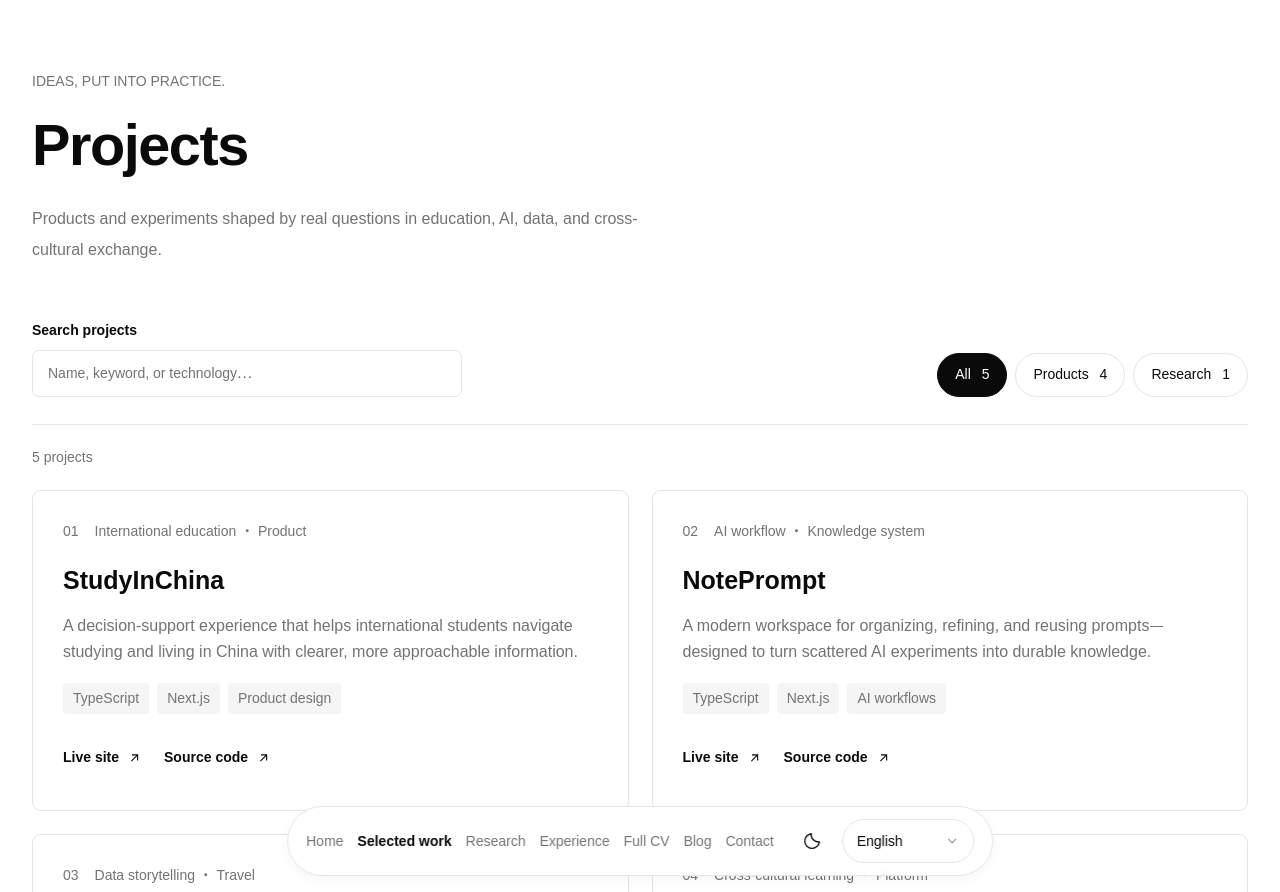
project discovery › combines category and keyword filtering and recovers from an empty result
Click the button "Products 4" at (1070,375), box top-left (1016, 353), bottom-right (1125, 397)
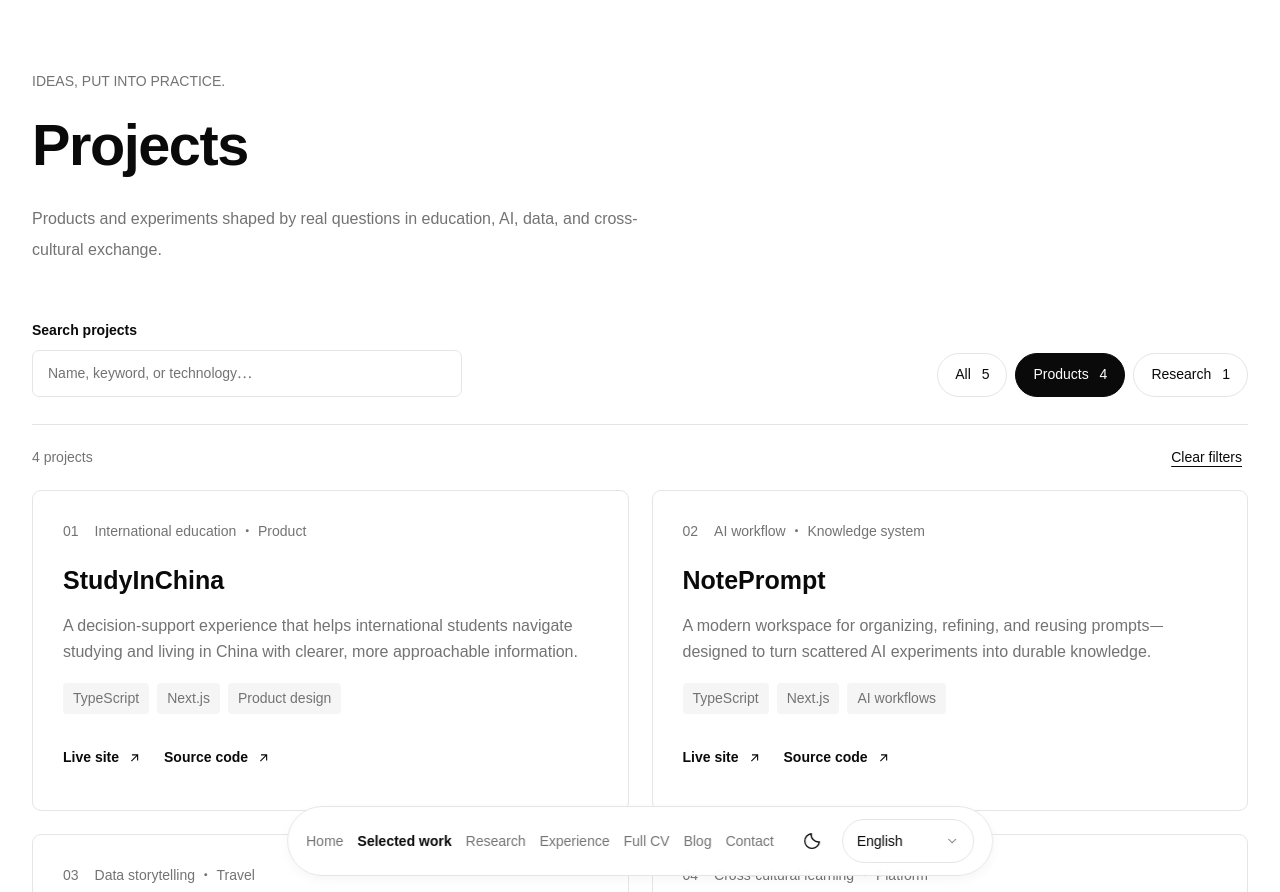
Expected: the heading "YouTube Sentiment Analysis" is not shown
Expected: the message reads "4 projects", top-left (32, 449), bottom-right (93, 465)
Click the button "Research 1" at (1191,375), box top-left (1133, 353), bottom-right (1248, 397)
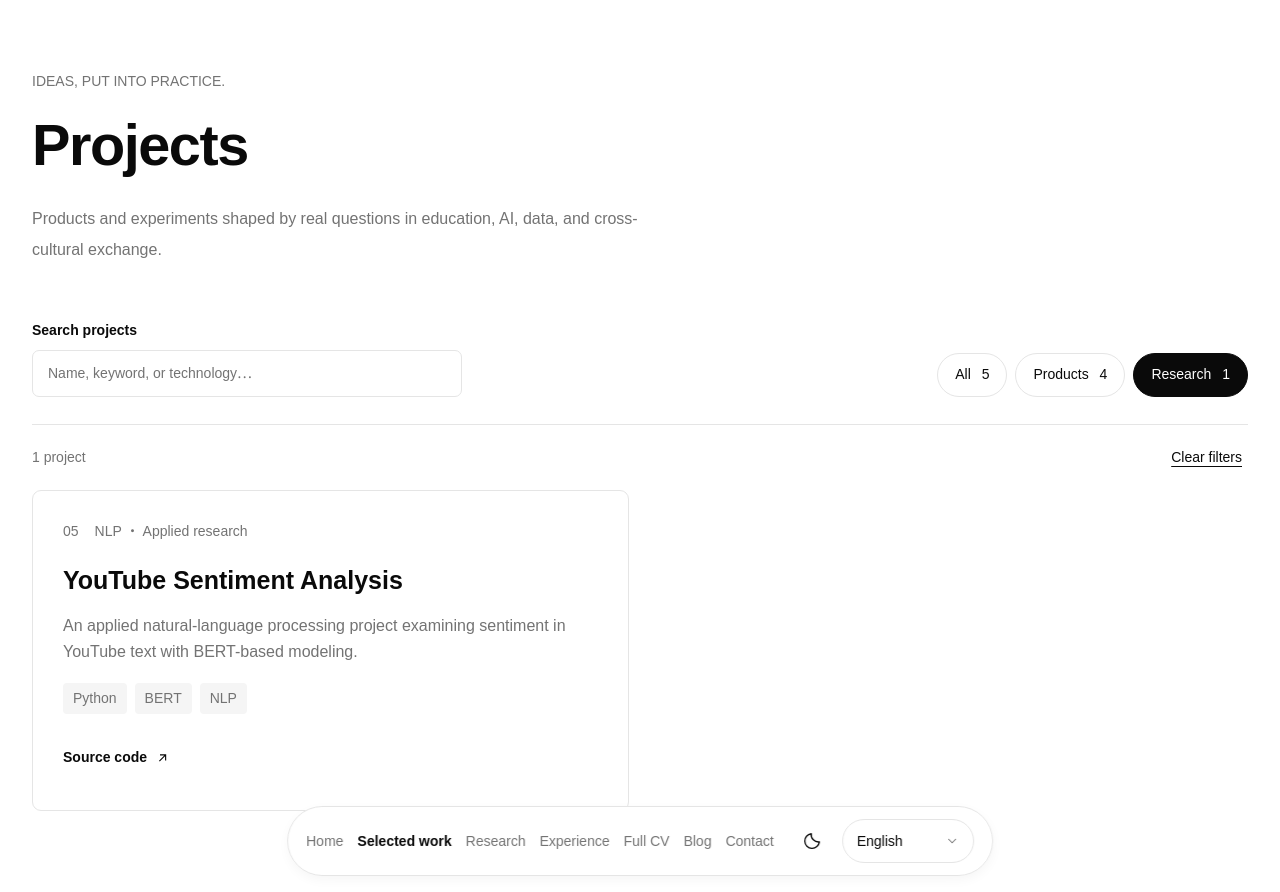
Expected: the message reads "1 project", top-left (32, 449), bottom-right (86, 465)
Expected: the heading "YouTube Sentiment Analysis" is shown, top-left (63, 566), bottom-right (403, 594)
Type "  bErT  " into the search field labelled "Search projects" at (247,374), box top-left (32, 350), bottom-right (462, 397)
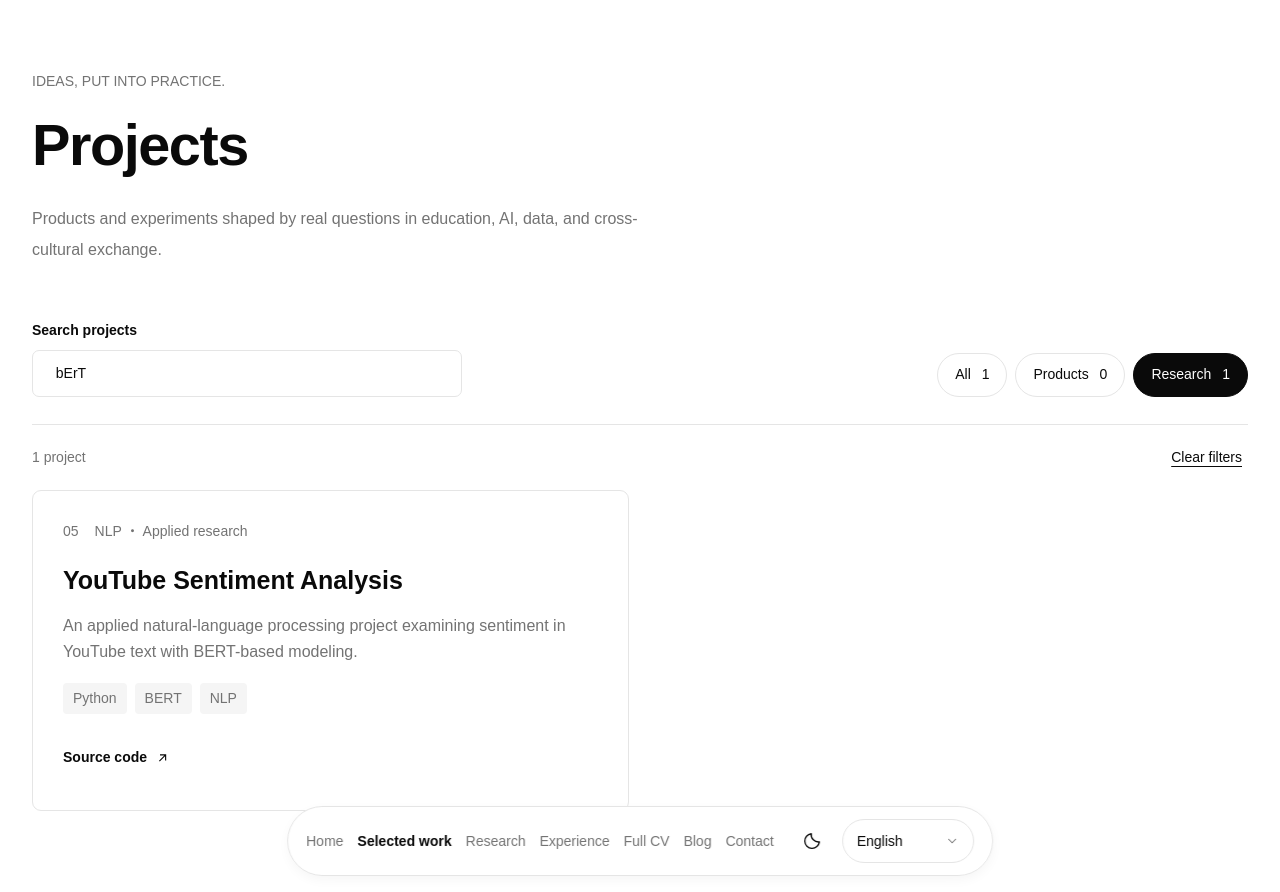
Expected: the message reads "1 project", top-left (32, 449), bottom-right (86, 465)
Replace the text in the search field labelled "Search projects" with "unmatched-query-987" at (247,374), box top-left (32, 350), bottom-right (462, 397)
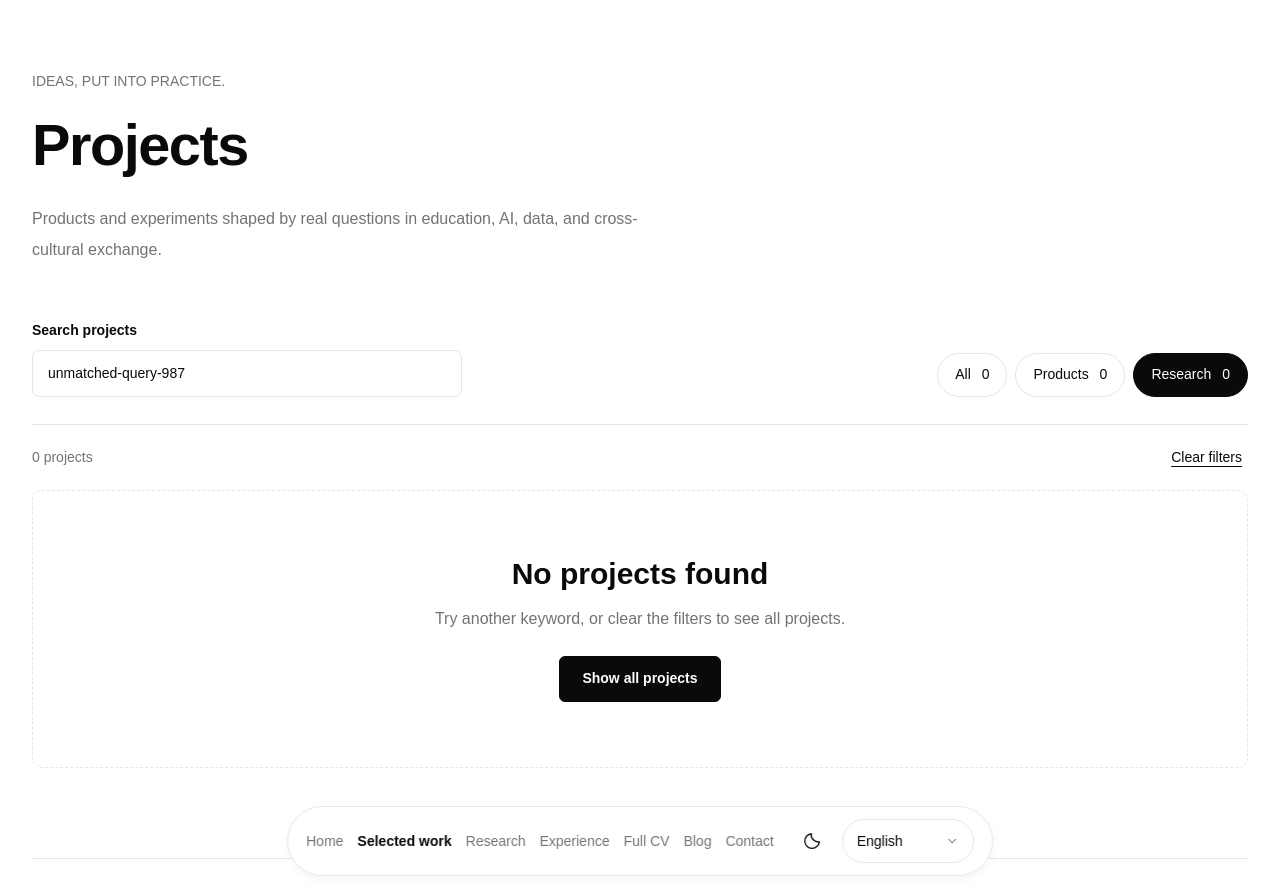
Expected: the message reads "0 projects", top-left (32, 449), bottom-right (93, 465)
Expected: the heading "No projects found" is shown, top-left (512, 557), bottom-right (768, 590)
Click the button "Show all projects" at (640,679), box top-left (559, 656), bottom-right (720, 702)
(page scrolled)
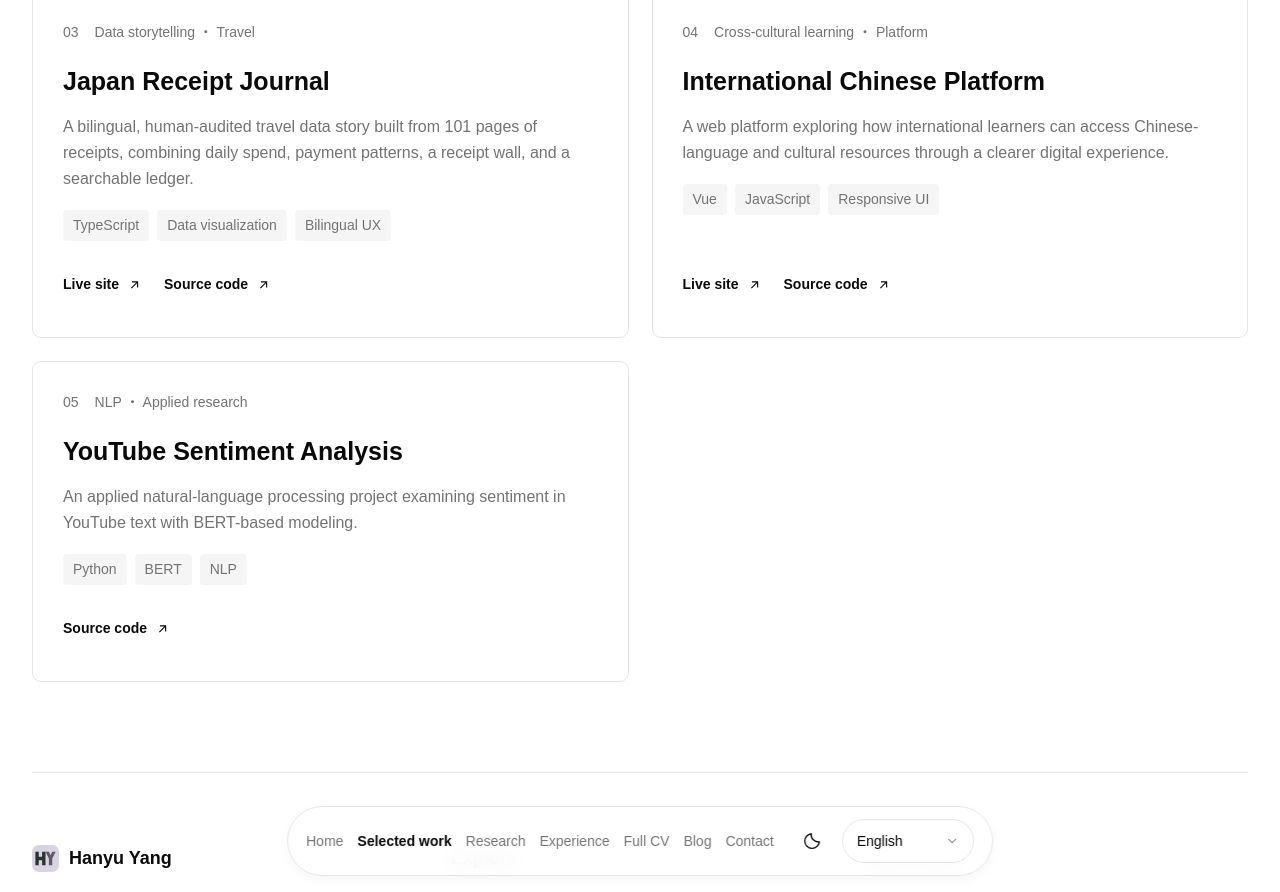
Expected: the heading "Japan Receipt Journal" is shown, top-left (63, 67), bottom-right (330, 95)
Expected: the heading "International Chinese Platform" is shown, top-left (682, 67), bottom-right (1045, 95)
Expected: the heading "YouTube Sentiment Analysis" is shown, top-left (63, 437), bottom-right (403, 465)
